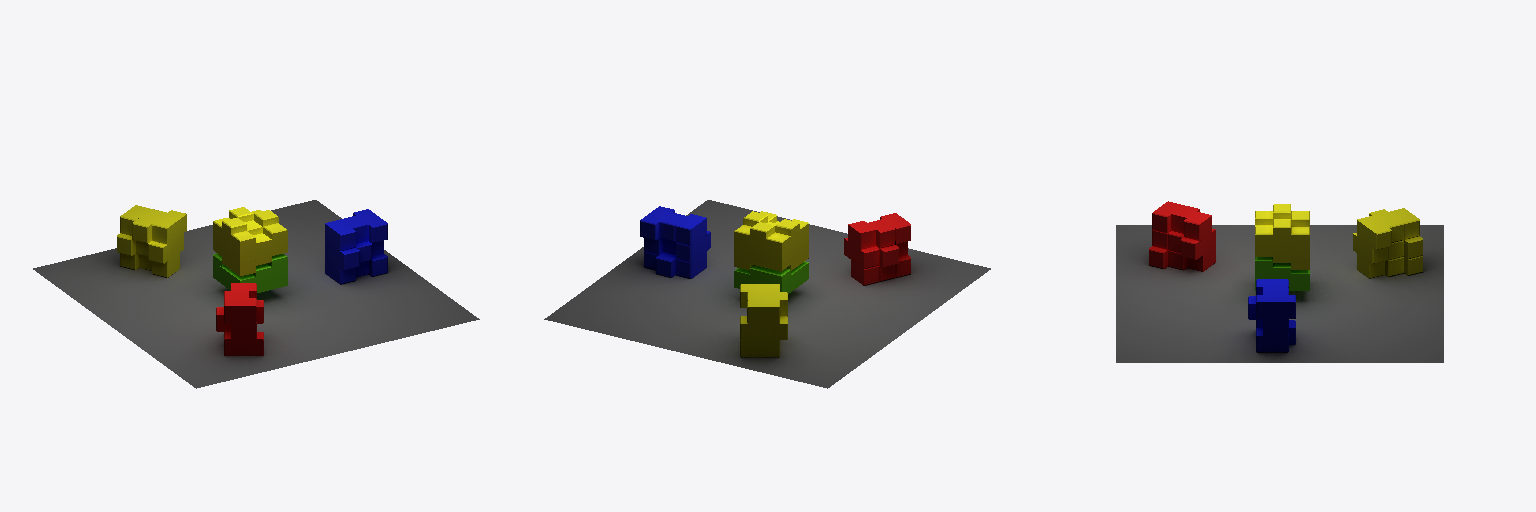
3 views of the same model, side by side, from view 1: azimuth 30°, elevation 25°; view 2: azimuth 150°, elevation 25°; view 3: azimuth 270°, elevation 25° (orthographic).
Visible parts, largest first — view 1: object_6.006; view 2: object_6.006; view 3: object_6.006.
Boxes of the visible parts, x1=… form: object_6.006: x1=33, y1=200, x2=479, y2=388; object_6.006: x1=544, y1=200, x2=990, y2=388; object_6.006: x1=1116, y1=201, x2=1443, y2=362.
Size of the model in its own units: 89.3 by 22.91 by 89.3.
2 materials, 2 textured.